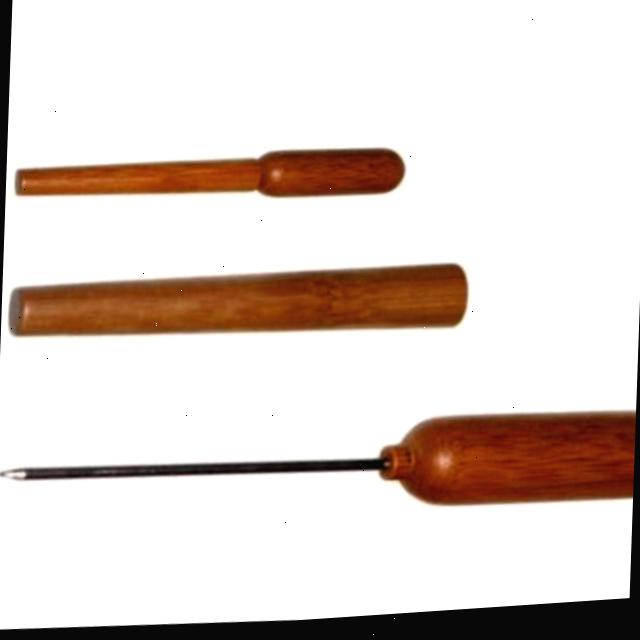ice pick: (0, 392, 635, 546), (14, 141, 405, 221)
